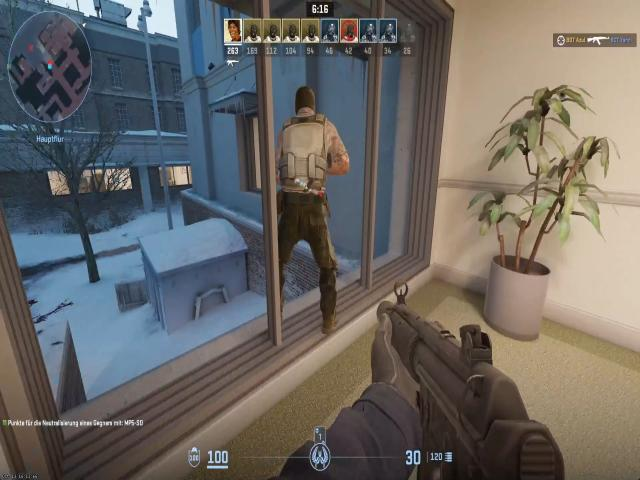T: (272, 101, 346, 210)
T-Head: (288, 82, 322, 123)
